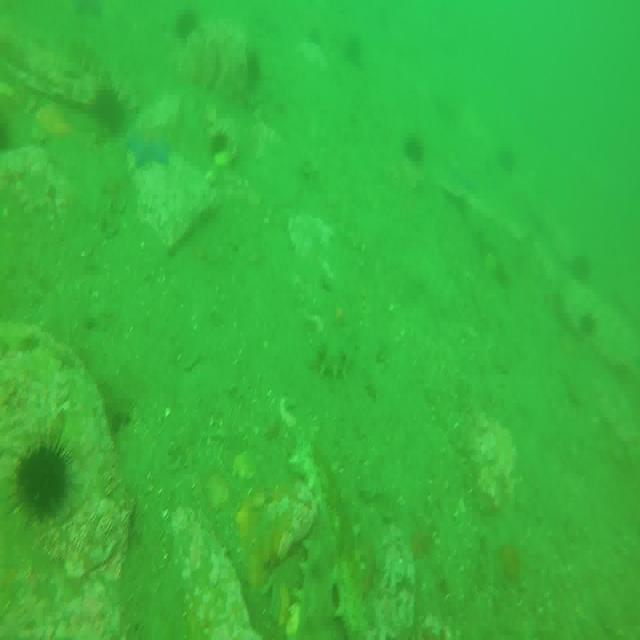echinus: (19, 444, 70, 517), (93, 84, 126, 132), (343, 33, 368, 70), (569, 255, 590, 297), (500, 142, 522, 169), (405, 130, 421, 162), (248, 51, 264, 82), (178, 11, 195, 40), (582, 312, 596, 346), (215, 128, 230, 155), (307, 25, 320, 47)
holothurian: (293, 440, 370, 640), (298, 513, 338, 640), (70, 36, 120, 90), (305, 332, 356, 374)
starfish: (126, 127, 176, 171)
